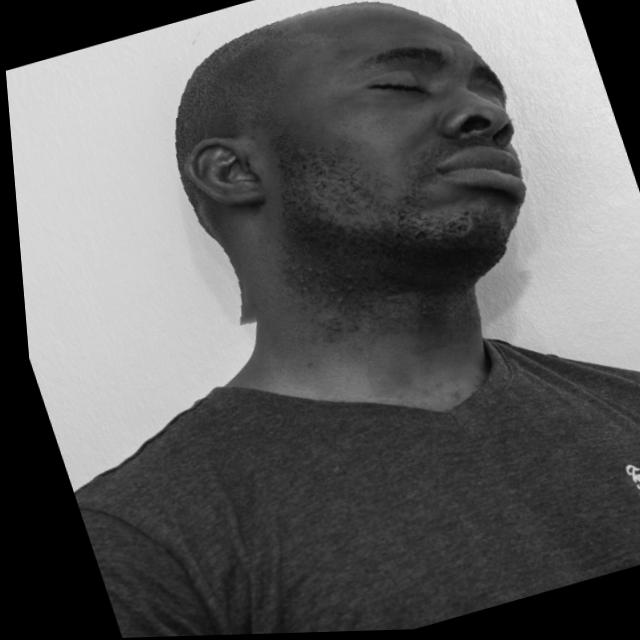sad: (115, 0, 571, 353)
